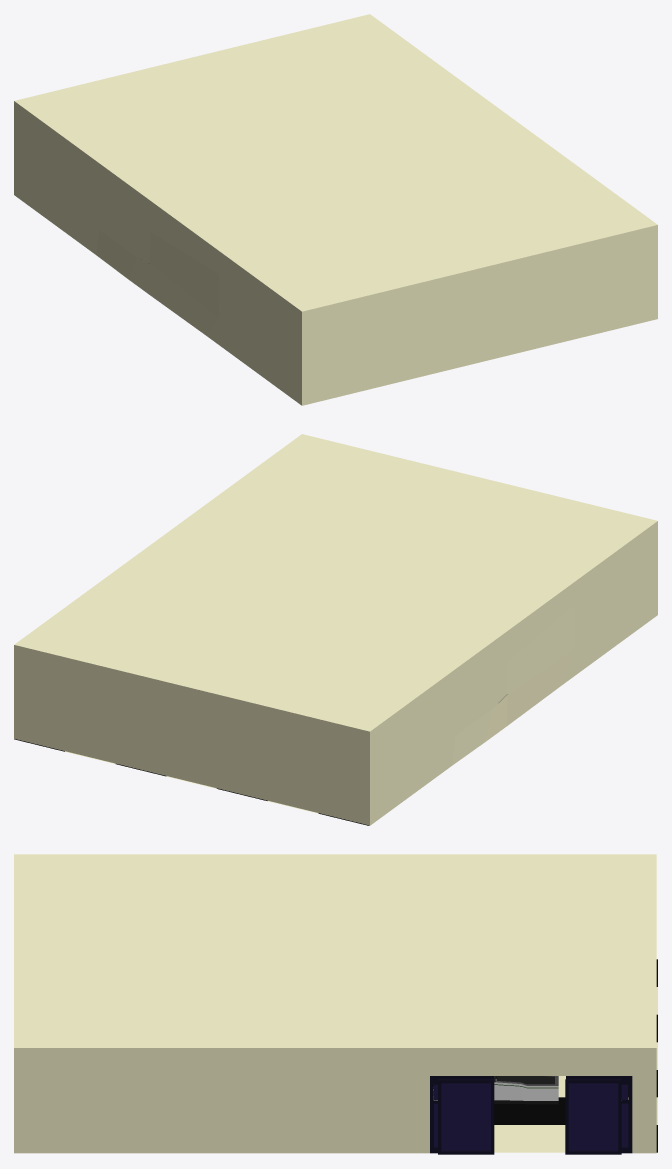
Rendered from Building_Supermarket.fbx.
The picture shows the model from 3 angles, top to bottom: view 1: azimuth 30°, elevation 25°; view 2: azimuth 150°, elevation 25°; view 3: azimuth 270°, elevation 25°; orthographic projection. The views are drawn at different scales.
Visible parts, largest first — view 1: Cube.004; view 2: Cube.004; view 3: Cube.004, Cube.011.
Part boxes in pixels (box(x1,y1,x2,y2)): Cube.004: box(14, 14, 657, 405); Cube.004: box(14, 434, 657, 825); Cube.004: box(14, 854, 657, 1154); Cube.011: box(494, 1076, 558, 1100).
Size of the model in its own units: 9056 by 2274 by 12604.
